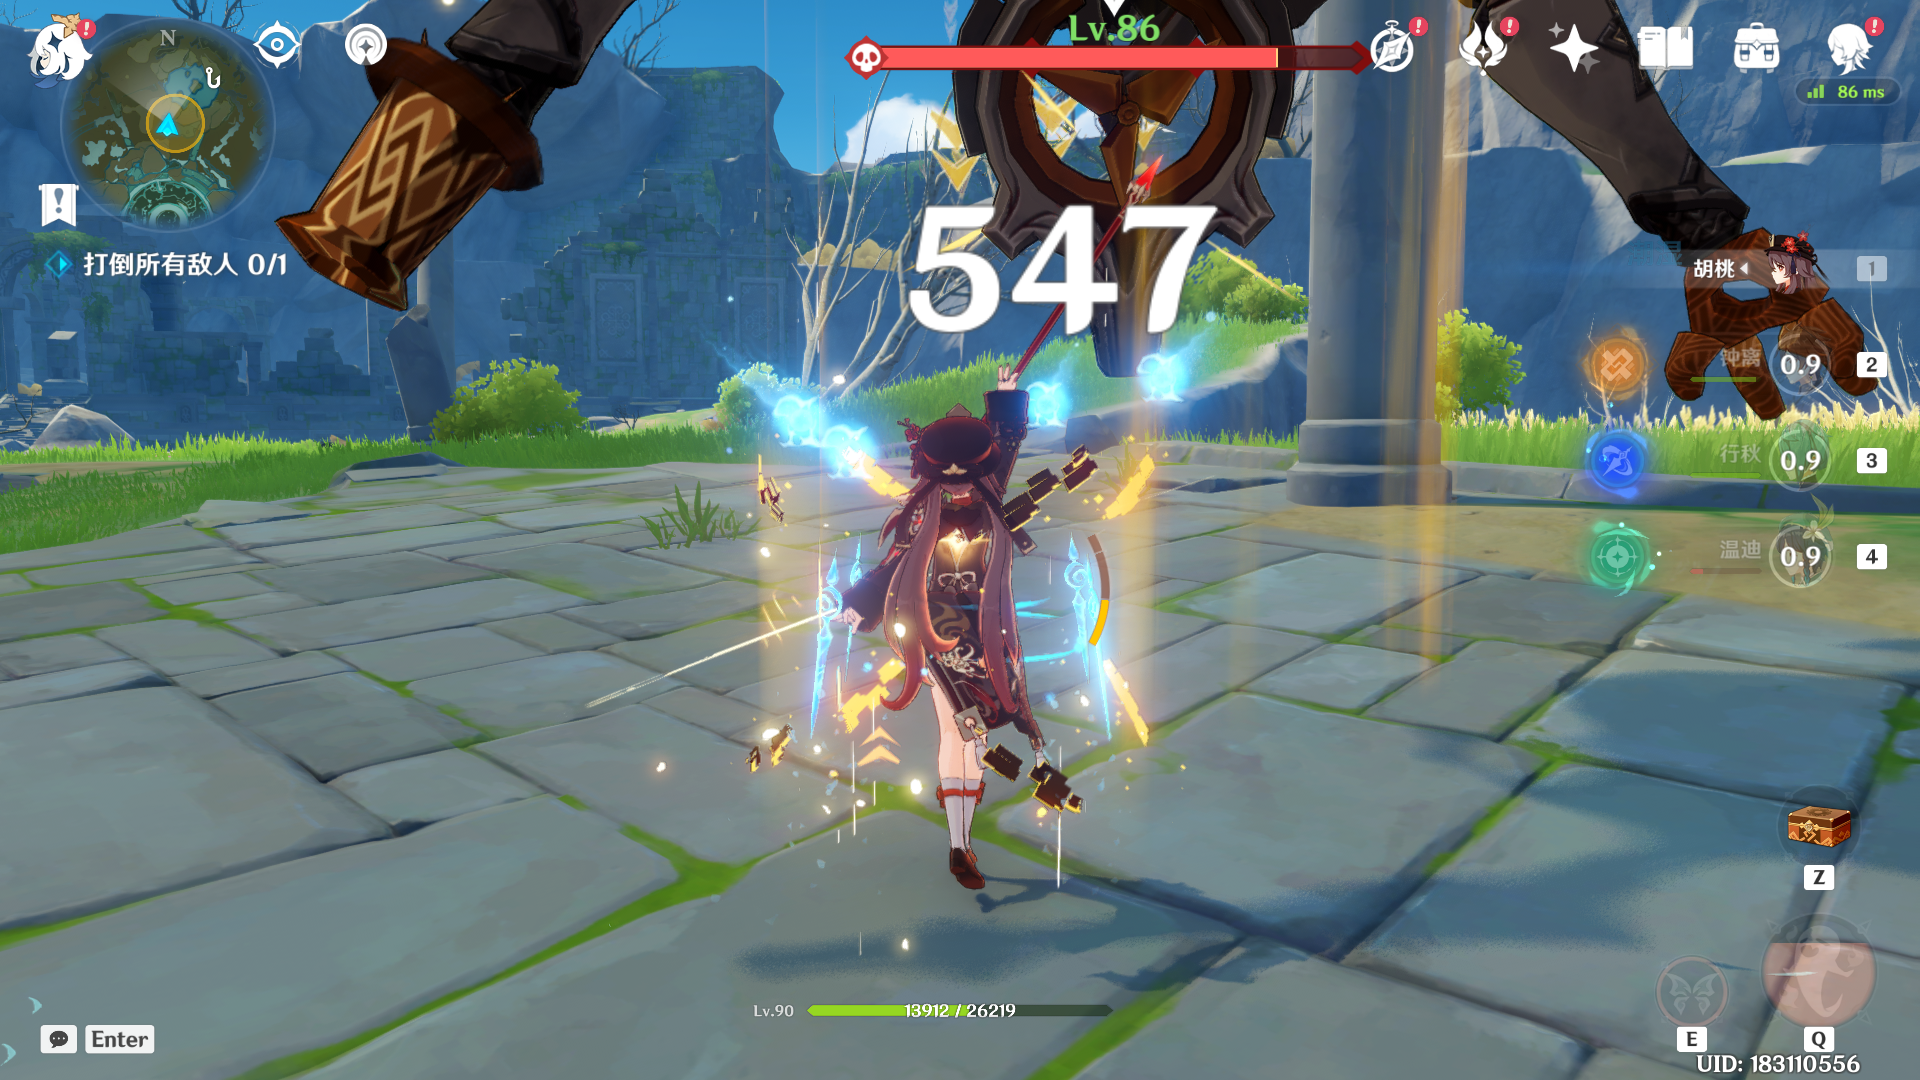character: (818, 367, 1168, 953)
